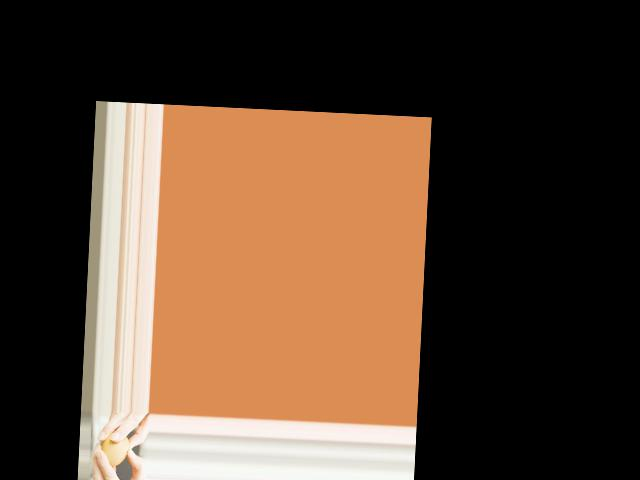egg: (99, 430, 130, 466)
